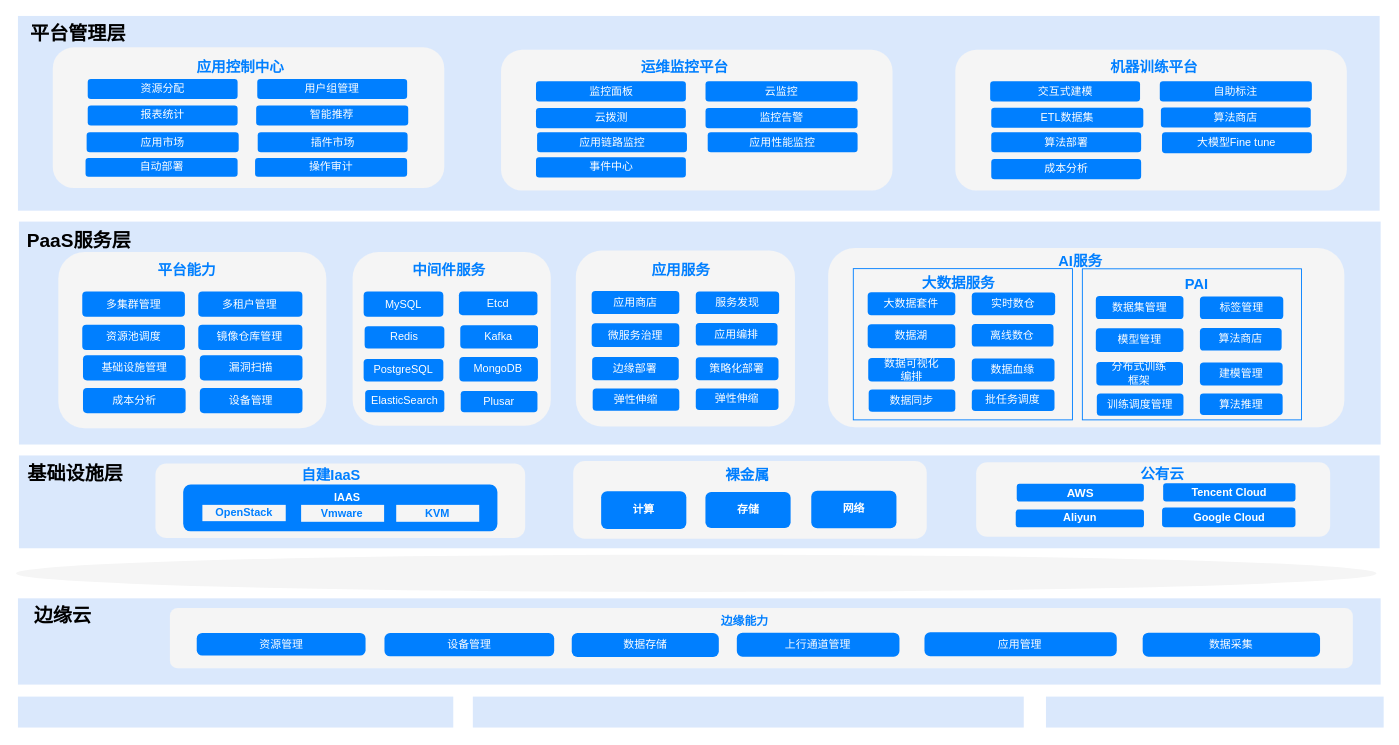
Some shapes in this 1399 by 745 pixel diagram are drawn without their labels. Each missing label, with the centre of its shape:
Devices: [1214,711]
Hardware: [235,711]
IOT: [747,711]
公网或企业骨干网: [695,573]
